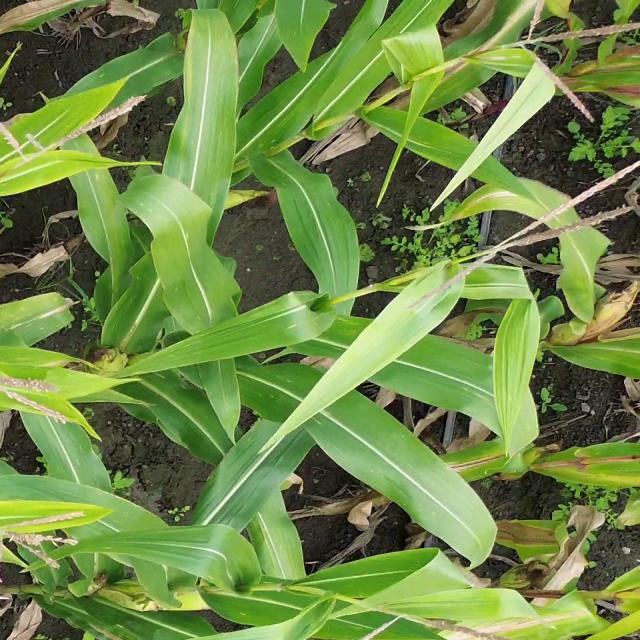northern-leaf-blight: (460, 4, 537, 68)
southern-leaf-blight: (233, 522, 370, 632), (113, 240, 210, 370), (256, 352, 357, 447), (0, 274, 62, 375), (241, 126, 321, 200)
